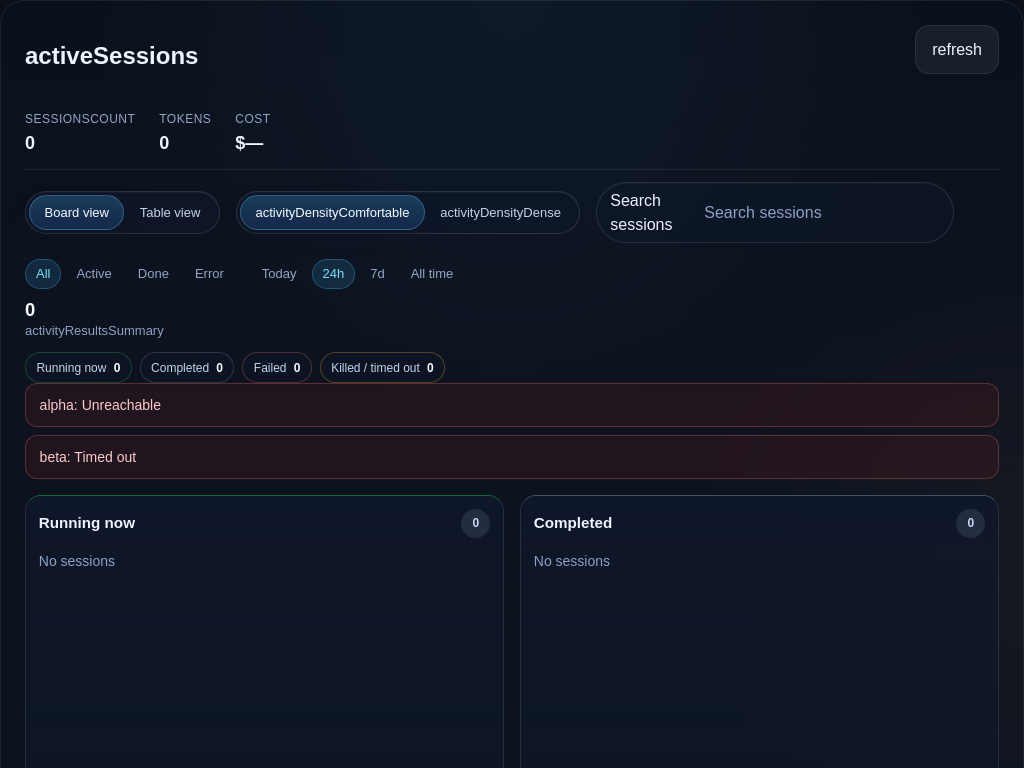
Scenario: FleetSessionsPanel › renders per-instance errors when every instance fetch fails with zero sessions
The width and height of the screenshot is (1024, 768).
Check: the text "alpha: Unreachable" is shown, box [25,383,999,427]
Check: the text "beta: Timed out" is shown, box [25,435,999,479]
What coordinates should you click on to do the following:
click the button "Table view"
I would click on:
 (170, 213)
Its box is [124,196,216,230].
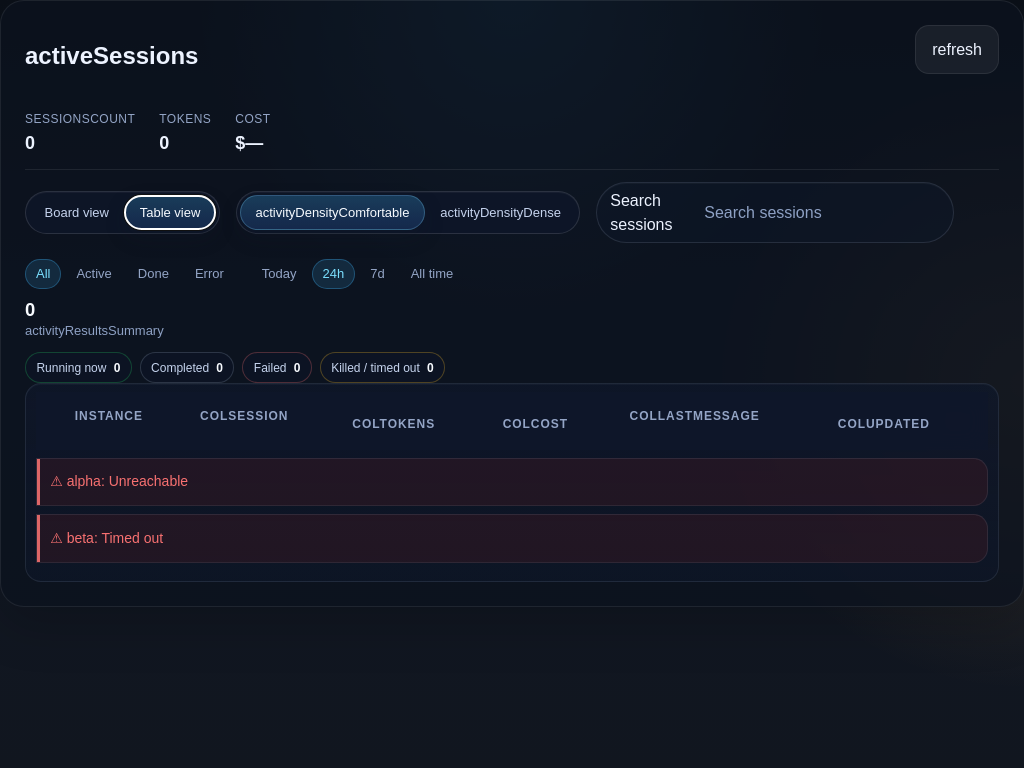
Check: the table is shown, box [26,384,998,581]
Check: the text "⚠ alpha: Unreachable" is shown, box [36,458,988,506]
Check: the text "⚠ beta: Timed out" is shown, box [36,514,988,563]
